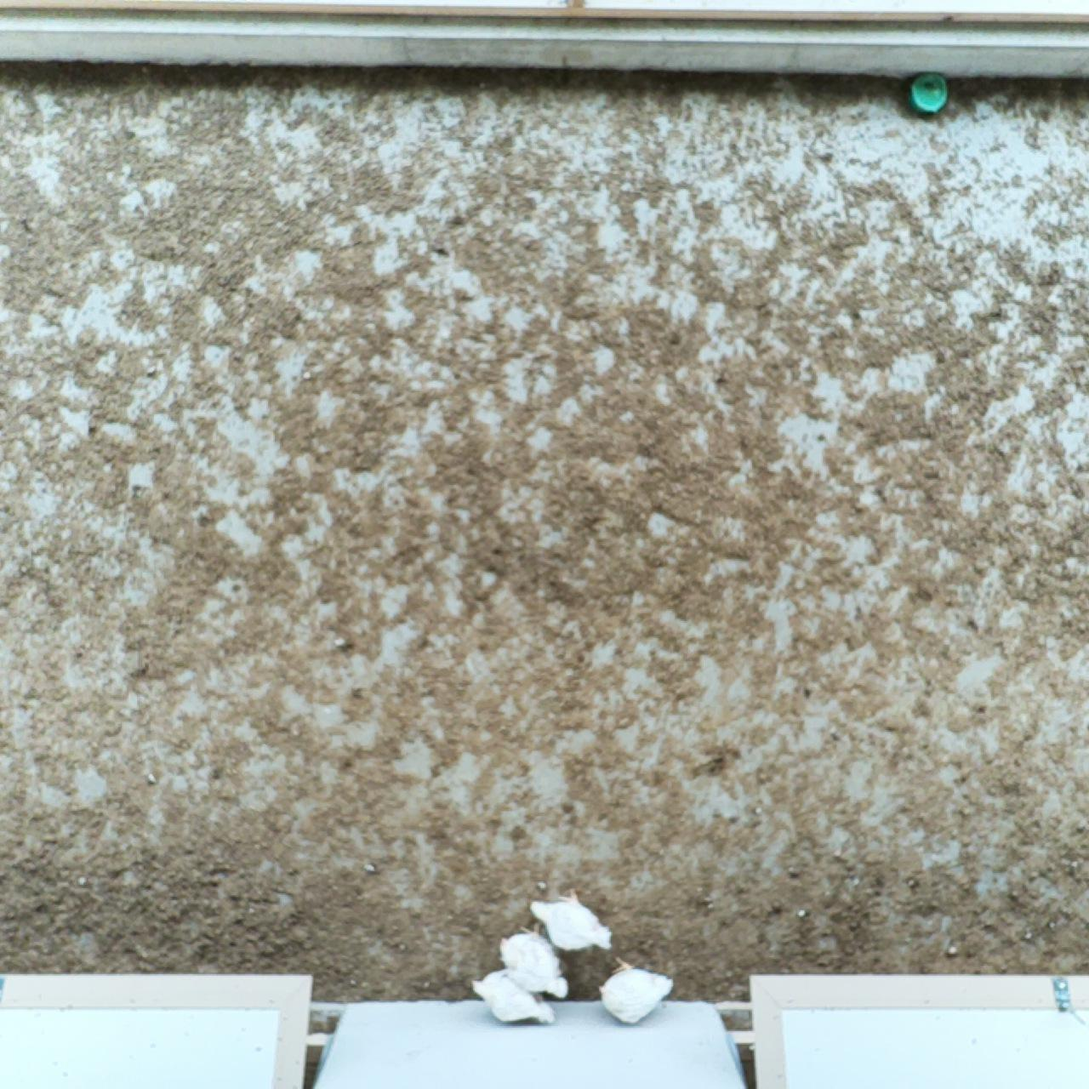chicken: (499, 922, 570, 998), (601, 959, 674, 1027), (472, 968, 559, 1025), (532, 888, 613, 949)
